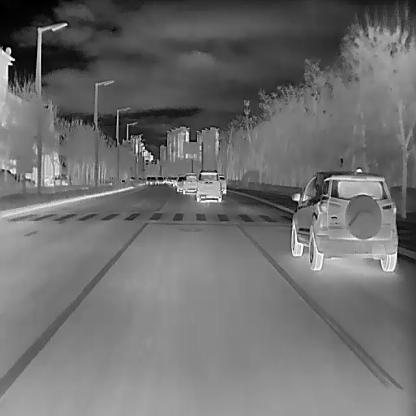car: (291, 170, 397, 270), (196, 169, 221, 201), (0, 167, 35, 185), (182, 172, 198, 194), (50, 173, 68, 185), (218, 173, 226, 193), (176, 173, 184, 191), (150, 174, 156, 184), (157, 175, 162, 183)
